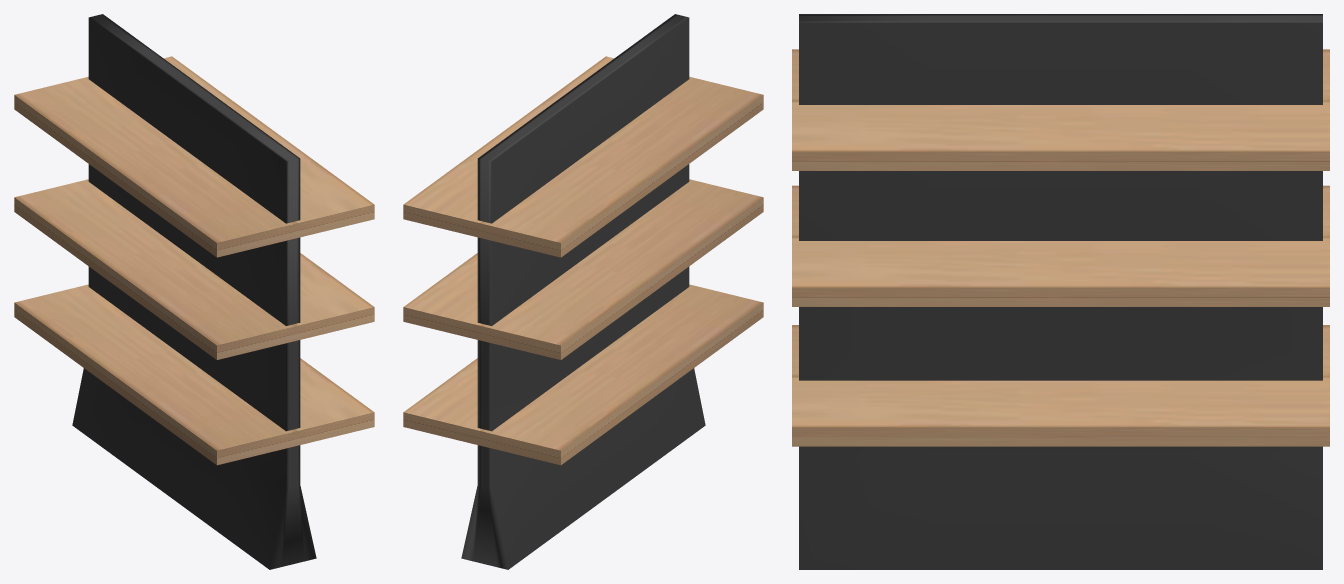
Rendered from Storething.dae.
The picture shows the model from 3 angles, left to right: view 1: azimuth 30°, elevation 25°; view 2: azimuth 150°, elevation 25°; view 3: azimuth 270°, elevation 25°; orthographic projection. The views are drawn at different scales.
Visible parts, largest first — view 1: Cube, Cube.003, Cube.001, Cube.002; view 2: Cube, Cube.003, Cube.001, Cube.002; view 3: Cube, Cube.001, Cube.003, Cube.002.
Part boxes in pixels (x1,y1,x2,y2): Cube: (72, 14, 316, 569); Cube.003: (14, 56, 374, 257); Cube.001: (14, 284, 374, 465); Cube.002: (14, 179, 374, 359); Cube: (461, 14, 705, 569); Cube.003: (403, 56, 763, 257); Cube.001: (403, 284, 763, 465); Cube.002: (403, 179, 763, 359); Cube: (799, 14, 1322, 569); Cube.001: (792, 325, 1329, 446); Cube.003: (792, 49, 1329, 170); Cube.002: (792, 185, 1329, 306).
Bounding box in the file's own units: 8.39 × 18.67 × 20.55.
Materials: 4 (3 with a texture image).
